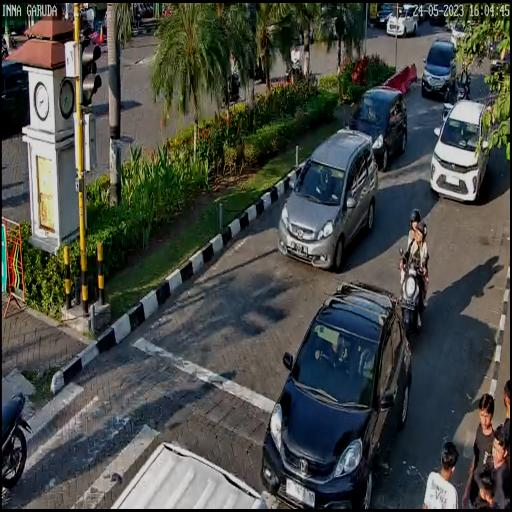mobil: (262, 281, 410, 506), (280, 124, 382, 274), (428, 97, 492, 202), (351, 84, 408, 171), (418, 34, 460, 102)
motor: (397, 247, 430, 335)
